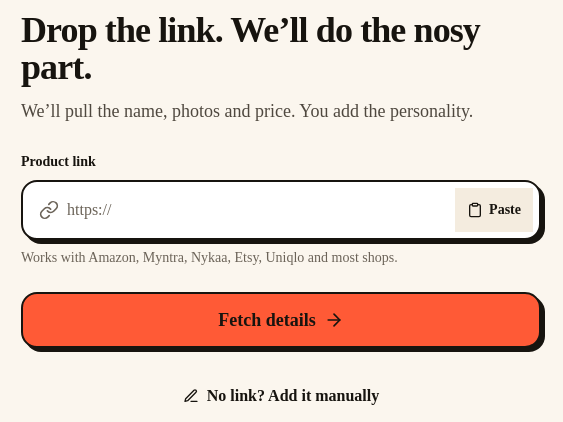
Test case: initial URL entry › requires a link before fetching
Click the button "Fetch details" at (281, 320), box [21,292,541,348]
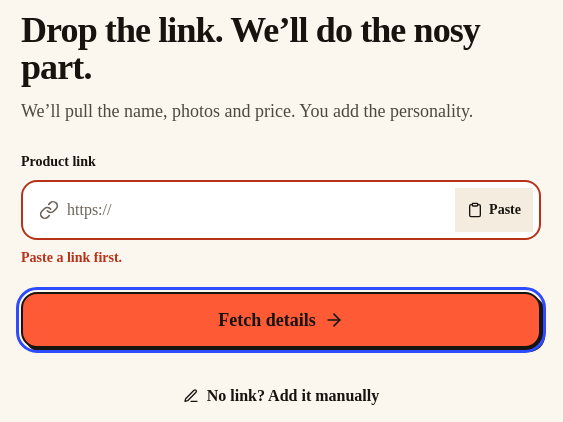
Check: the text "Paste a link first." is shown, box [21,250,122,265]
